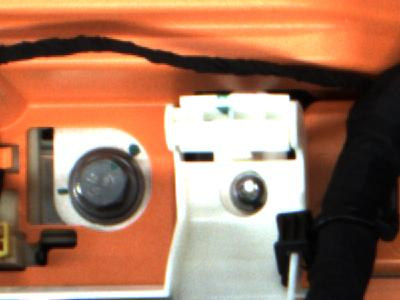nut_b: (63, 140, 154, 226)
